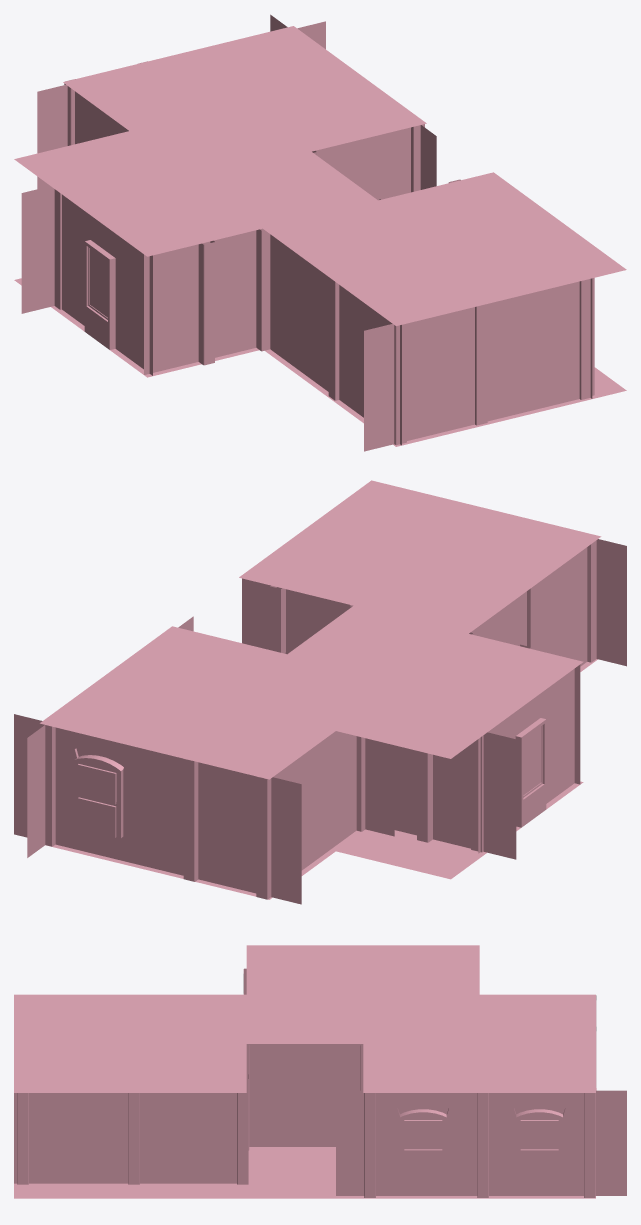
File: StructureApartment.fbx
3 renders of one model, top to bottom at view 1: azimuth 30°, elevation 25°; view 2: azimuth 150°, elevation 25°; view 3: azimuth 270°, elevation 25°, orthographic. The views are drawn at different scales.
Visible parts, largest first — view 1: StructureApartment; view 2: StructureApartment; view 3: StructureApartment.
Boxes of the visible parts, box(x1,y1,x2,y2) form: StructureApartment: box(14, 14, 626, 451); StructureApartment: box(14, 480, 626, 904); StructureApartment: box(14, 945, 626, 1198).
Bounding box in the file's own units: 1400 × 400 × 2107.
